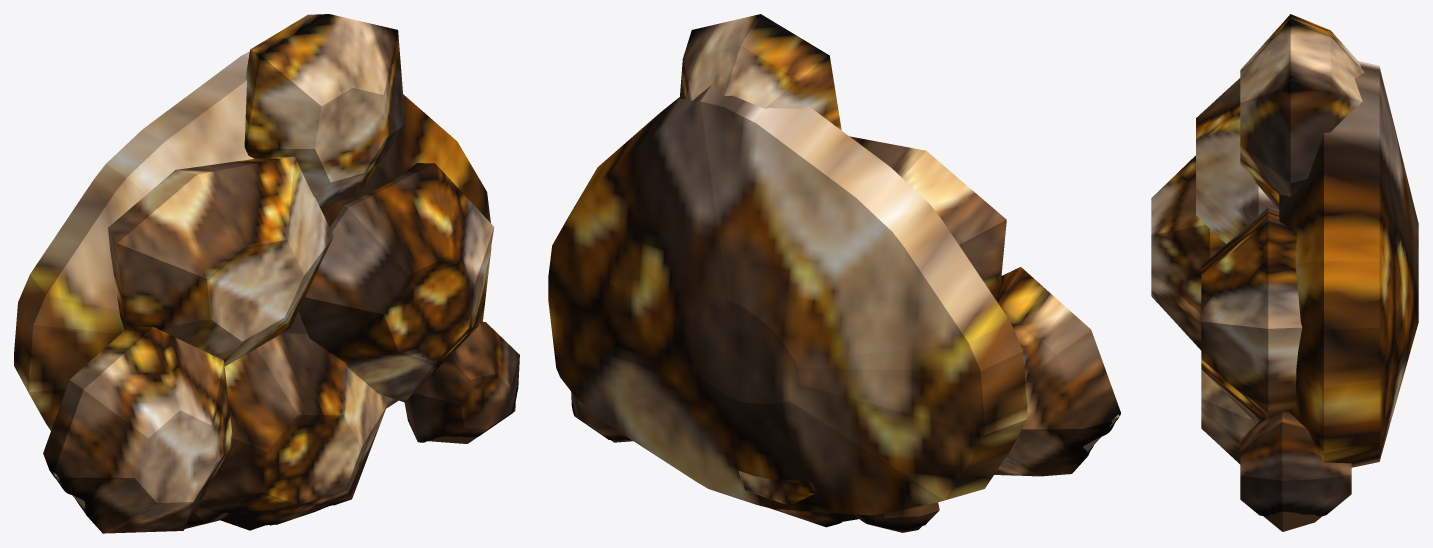
Rendered from raw_gold.obj.
The picture shows the model from 3 angles, left to right: view 1: azimuth 30°, elevation 25°; view 2: azimuth 150°, elevation 25°; view 3: azimuth 270°, elevation 25°; orthographic projection. The views are drawn at different scales.
Visible parts, largest first — view 1: rock_1, connected_ore_core, rock_2, rock_3, rock_4, rock_0, rock_5; view 2: connected_ore_core, rock_3, rock_0, rock_1, rock_4, rock_6, rock_5; view 3: connected_ore_core, rock_2, rock_0, rock_5, rock_3, rock_1, rock_4, rock_5_undercoat.
Boxes of the visible parts, x1,y1,x2,y2 form: rock_1: (108, 156, 333, 366); connected_ore_core: (14, 51, 491, 430); rock_2: (298, 163, 494, 402); rock_3: (43, 327, 233, 533); rock_4: (198, 332, 387, 525); rock_0: (244, 14, 405, 206); rock_5: (404, 321, 519, 442); connected_ore_core: (548, 85, 1027, 515); rock_3: (994, 267, 1120, 476); rock_0: (679, 14, 841, 130); rock_1: (850, 136, 1006, 303); rock_4: (738, 471, 847, 527); rock_6: (857, 502, 939, 529); rock_5: (571, 392, 631, 440); connected_ore_core: (1279, 61, 1418, 467); rock_2: (1201, 207, 1302, 423); rock_0: (1240, 14, 1364, 209); rock_5: (1240, 411, 1351, 516); rock_3: (1151, 155, 1225, 350); rock_1: (1196, 78, 1278, 244); rock_4: (1201, 369, 1256, 464); rock_5_undercoat: (1263, 511, 1322, 531).
Bounding box in the file's own units: 103 × 96 × 48.96.
Materials: 2 (2 with a texture image).
